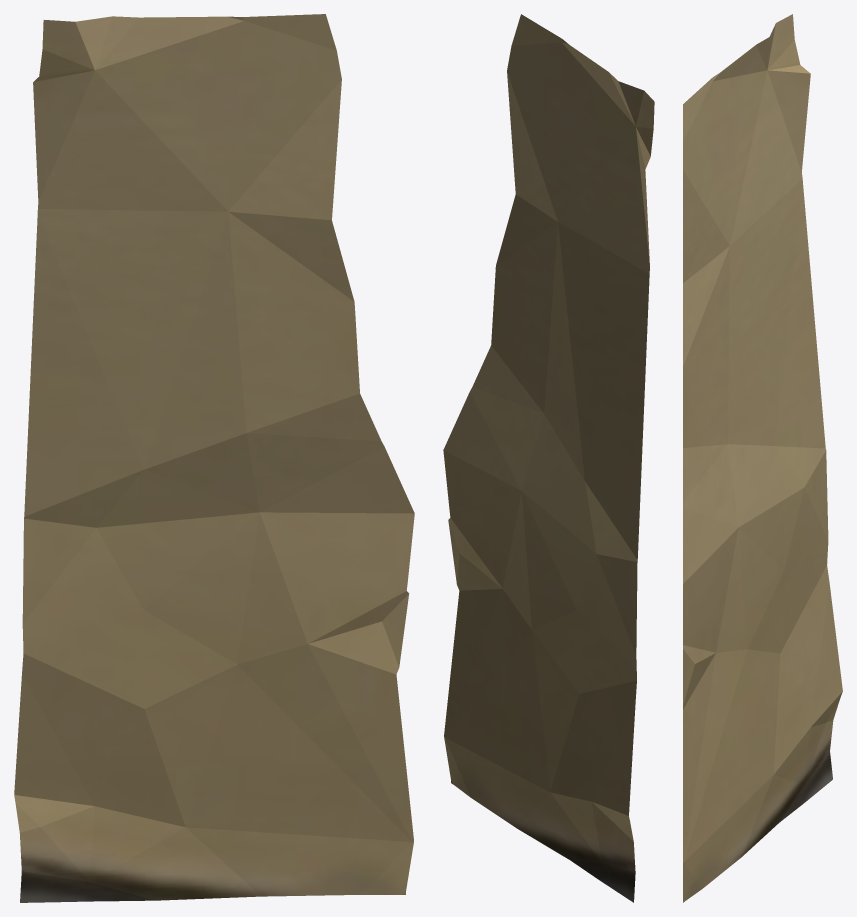
The picture shows the model from 3 angles, left to right: view 1: azimuth 30°, elevation 25°; view 2: azimuth 150°, elevation 25°; view 3: azimuth 270°, elevation 25°; orthographic projection. The views are drawn at different scales.
Bounding box in the file's own units: 0.2984 × 0.8374 × 0.1585.
Materials: 1 (1 with a texture image).
